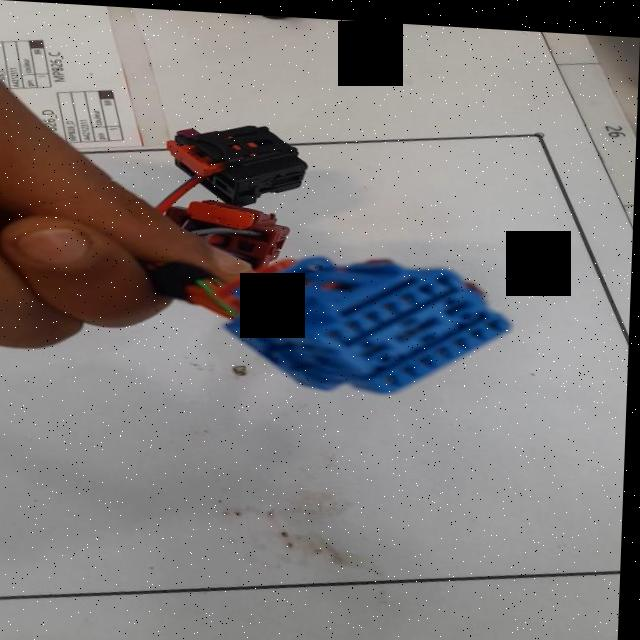connector: (225, 254, 515, 392), (169, 123, 309, 203)
